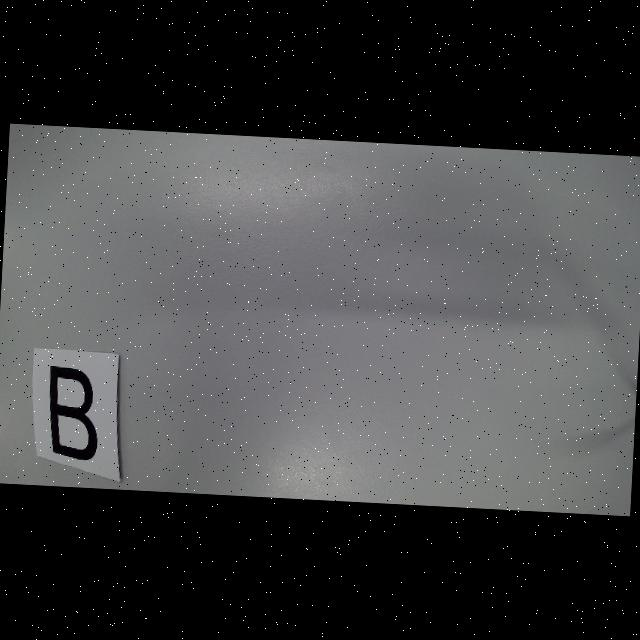FAKE: (46, 366, 102, 460)
